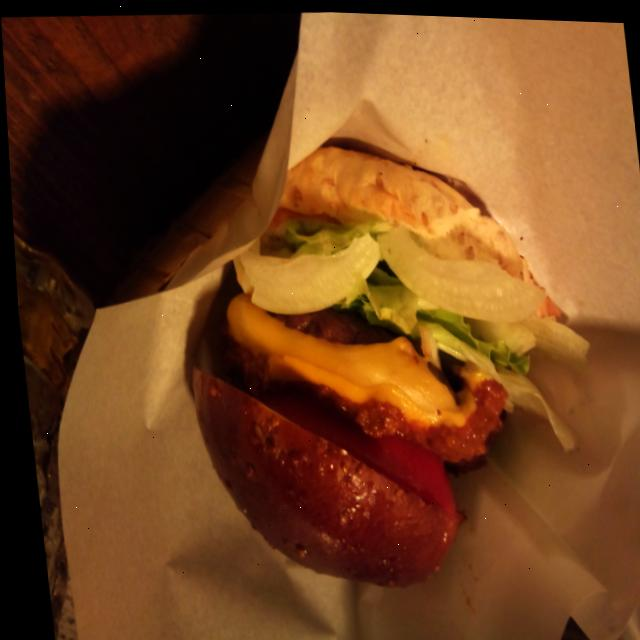汉堡快餐: (154, 125, 602, 595)
